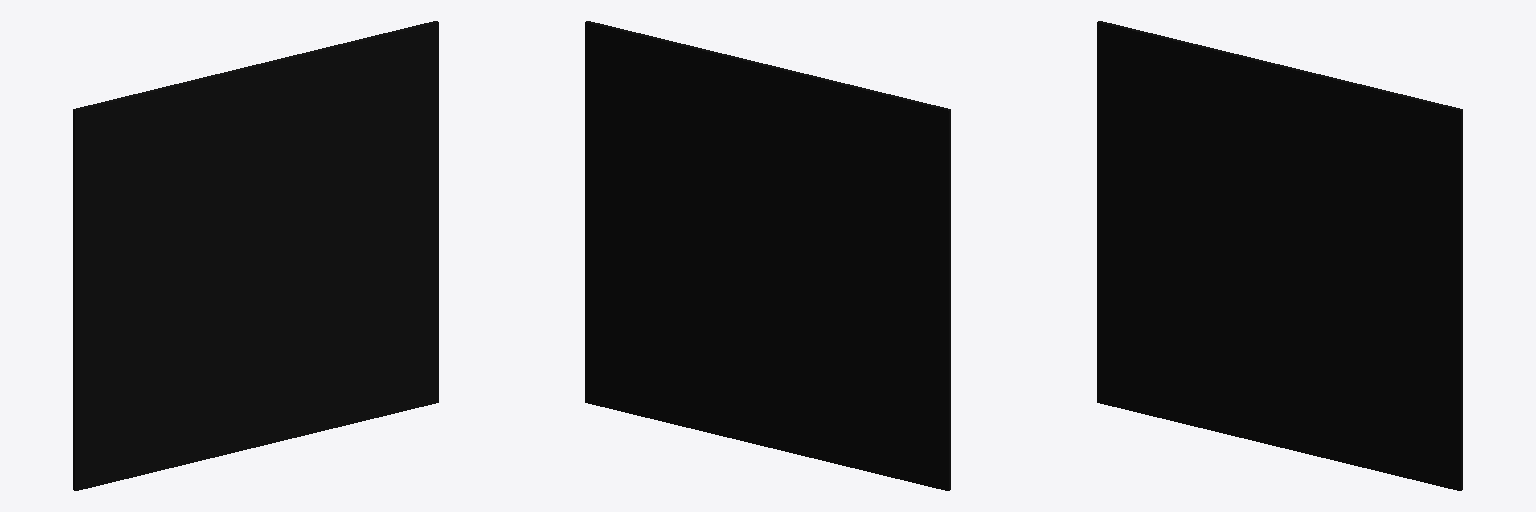
URDF robot description (ground_skeleton):
<?xml version="1.0"?>
<robot name="ground_skeleton">
  <material name="Black">
    <color rgba="0.1 0.1 0.1 1.0"/>
  </material>
    <link name="world" />
    <link name="ground_link">
        <inertial>
            <mass value="1.0" />
            <origin xyz="0 0 0" rpy="0 0 0" />
            <inertia ixx="1.0" ixy="0" ixz="0" iyy="1.0" iyz="0" izz="1.0" />
        </inertial>
        <visual>
            <origin xyz="0 -0 0" rpy="0 -0 0" />
            <geometry>
                <box size="25 0.25 25" />
            </geometry>
			<material name="Black"/> 
        </visual>
        <collision>
            <origin xyz="0 -0.0 0" rpy="0 -0 0" />
            <geometry>
                <box size="25 0.25 25" />
            </geometry>
        </collision>
    </link>
    <joint name="ground_joint" type="fixed">
        <origin xyz="0 0 0" rpy="0 0 0" />
        <parent link="world" />
        <child link="ground_link" />
    </joint>
</robot>

--- What the picture shows (computed from the rendered views, not written in the file) ---
The picture shows the robot from 3 angles, left to right: view 1: azimuth 30°, elevation 25°; view 2: azimuth 150°, elevation 25°; view 3: azimuth 330°, elevation 25°; orthographic projection.
Model ground_skeleton with 2 links and 1 joints (1 fixed), rooted at world, posed all joints at 0.
Links seen in each view (by area): view 1: ground_link; view 2: ground_link; view 3: ground_link.
Link boxes in pixels (<box>): ground_link: <box>73,21,438,490</box>; ground_link: <box>585,21,950,490</box>; ground_link: <box>1097,21,1462,490</box>.
Bounding box of the posed robot: 25 × 0.25 × 25 m (x, y, z).
Geometry: primitives only (box / cylinder / sphere), no mesh files.